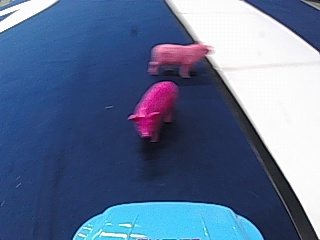pig: (127, 77, 176, 143), (149, 38, 208, 77)
